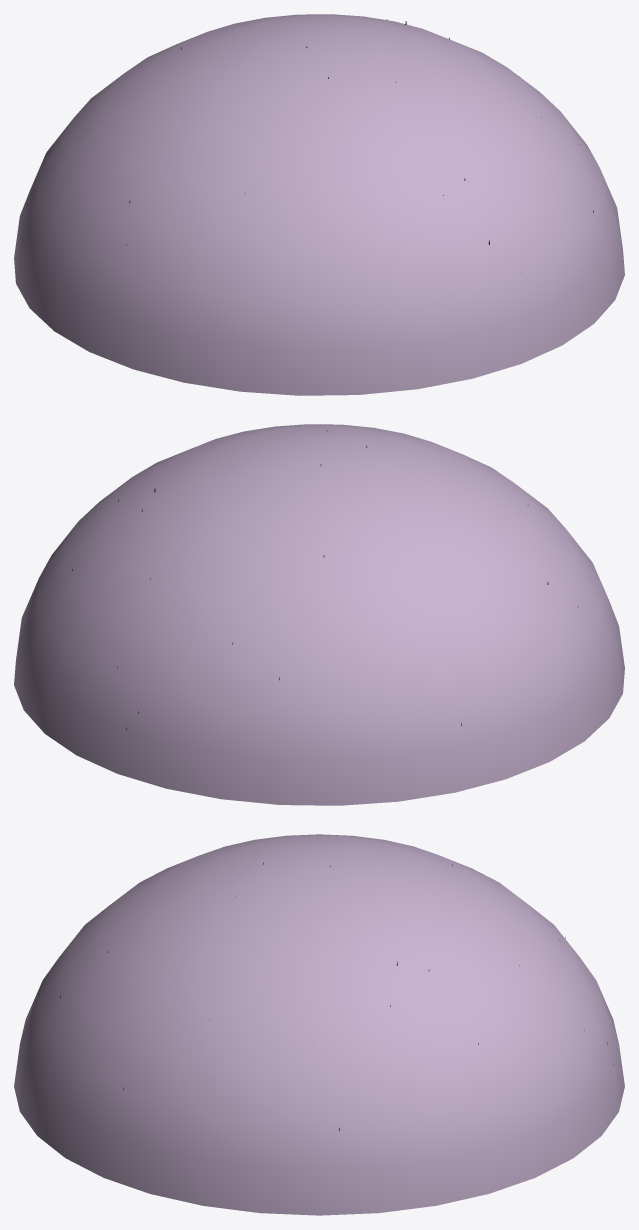
The model's file is particule_000001.obj.
3 views of the same model, one above another, from view 1: azimuth 30°, elevation 25°; view 2: azimuth 150°, elevation 25°; view 3: azimuth 270°, elevation 25° (orthographic).
Parts seen in each view (by area): view 1: Sphère; view 2: Sphère; view 3: Sphère.
Part boxes in pixels (x1=…): Sphère: x1=14, y1=14, x2=624, y2=395; Sphère: x1=14, y1=424, x2=624, y2=805; Sphère: x1=14, y1=834, x2=624, y2=1215.
Bounding box in the file's own units: 63430 × 25084 × 63430.
